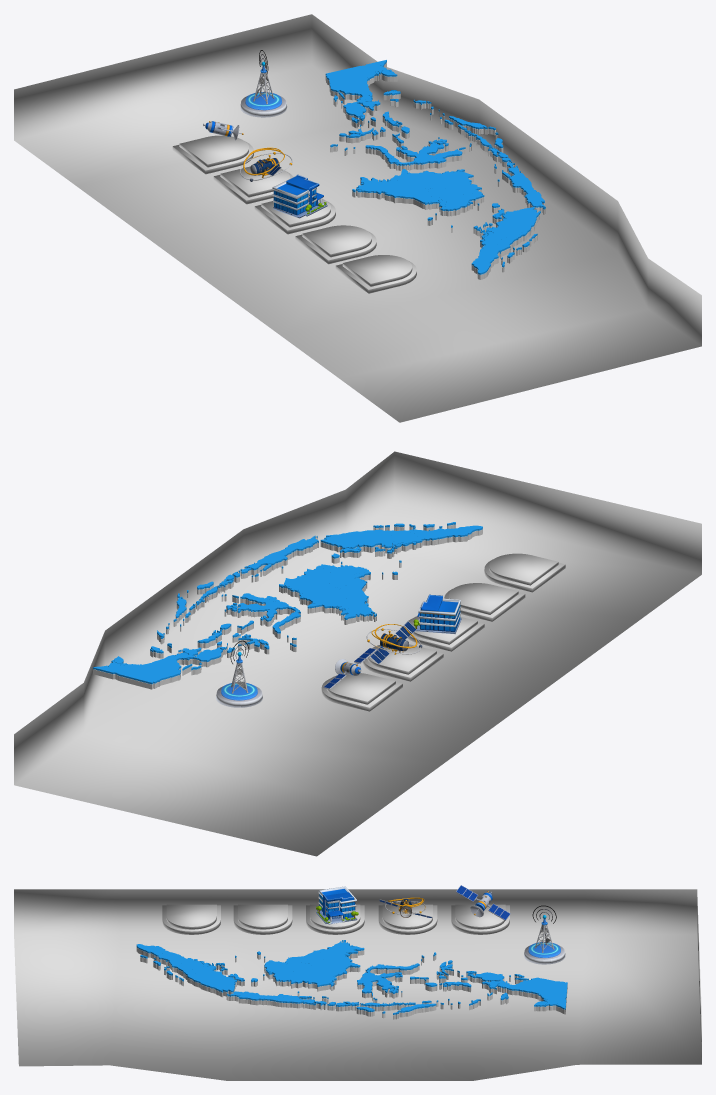
The model's file is peta.glb.
The picture shows the model from 3 angles, top to bottom: view 1: azimuth 30°, elevation 25°; view 2: azimuth 150°, elevation 25°; view 3: azimuth 270°, elevation 25°; orthographic projection. The views are drawn at different scales.
Parts seen in each view (by area): view 1: Plane, geometry_0.003, Circle.004, Circle.001, Circle.002, ID-PA.001, geometry_0, Circle.008, geometry_0.002, ID-KB.001, Circle.007, Circle.005 (+4 smaller); view 2: Plane, Circle.002, ID-PA.001, geometry_0.003, Circle.004, Circle.001, geometry_0, Circle.008, geometry_0.002, ID-PA, Circle.003, Circle.007 (+5 smaller); view 3: Plane, geometry_0.003, Circle.002, ID-PA.001, Circle.004, geometry_0, Circle.008, Circle.001, geometry_0.001, ID-KT.001, ID-KB.001, Circle.009 (+15 smaller).
Part boxes in pixels (x1,y1,x2,y2): Plane: [14, 14, 701, 422]; geometry_0.003: [272, 174, 327, 218]; Circle.004: [302, 225, 371, 257]; Circle.001: [179, 135, 248, 167]; Circle.002: [342, 255, 412, 286]; ID-PA.001: [325, 60, 397, 103]; geometry_0: [240, 50, 287, 117]; Circle.008: [220, 166, 289, 197]; geometry_0.002: [240, 147, 292, 181]; ID-KB.001: [423, 188, 484, 227]; Circle.007: [261, 199, 330, 227]; Circle.005: [295, 231, 376, 264]; Plane: [14, 451, 701, 856]; Circle.002: [489, 553, 558, 585]; ID-PA.001: [93, 655, 201, 684]; geometry_0.003: [413, 594, 461, 634]; Circle.004: [449, 583, 518, 614]; Circle.001: [326, 673, 395, 704]; geometry_0: [216, 640, 262, 707]; Circle.008: [367, 644, 436, 674]; geometry_0.002: [366, 621, 422, 663]; ID-PA: [93, 659, 201, 689]; Circle.003: [484, 559, 565, 592]; Circle.007: [409, 616, 477, 644]; Plane: [14, 889, 701, 1080]; geometry_0.003: [316, 886, 358, 924]; Circle.002: [166, 904, 216, 929]; ID-PA.001: [503, 974, 567, 1009]; Circle.004: [238, 904, 287, 929]; geometry_0: [524, 905, 565, 964]; Circle.008: [382, 904, 432, 929]; Circle.001: [455, 904, 505, 929]; geometry_0.001: [456, 885, 510, 920]; ID-KT.001: [281, 966, 329, 983]; ID-KB.001: [235, 951, 314, 981]; Circle.009: [378, 905, 437, 934].
Bounding box in the file's own units: 4.03 × 1.28 × 8.01.
5 materials, 4 textured.
